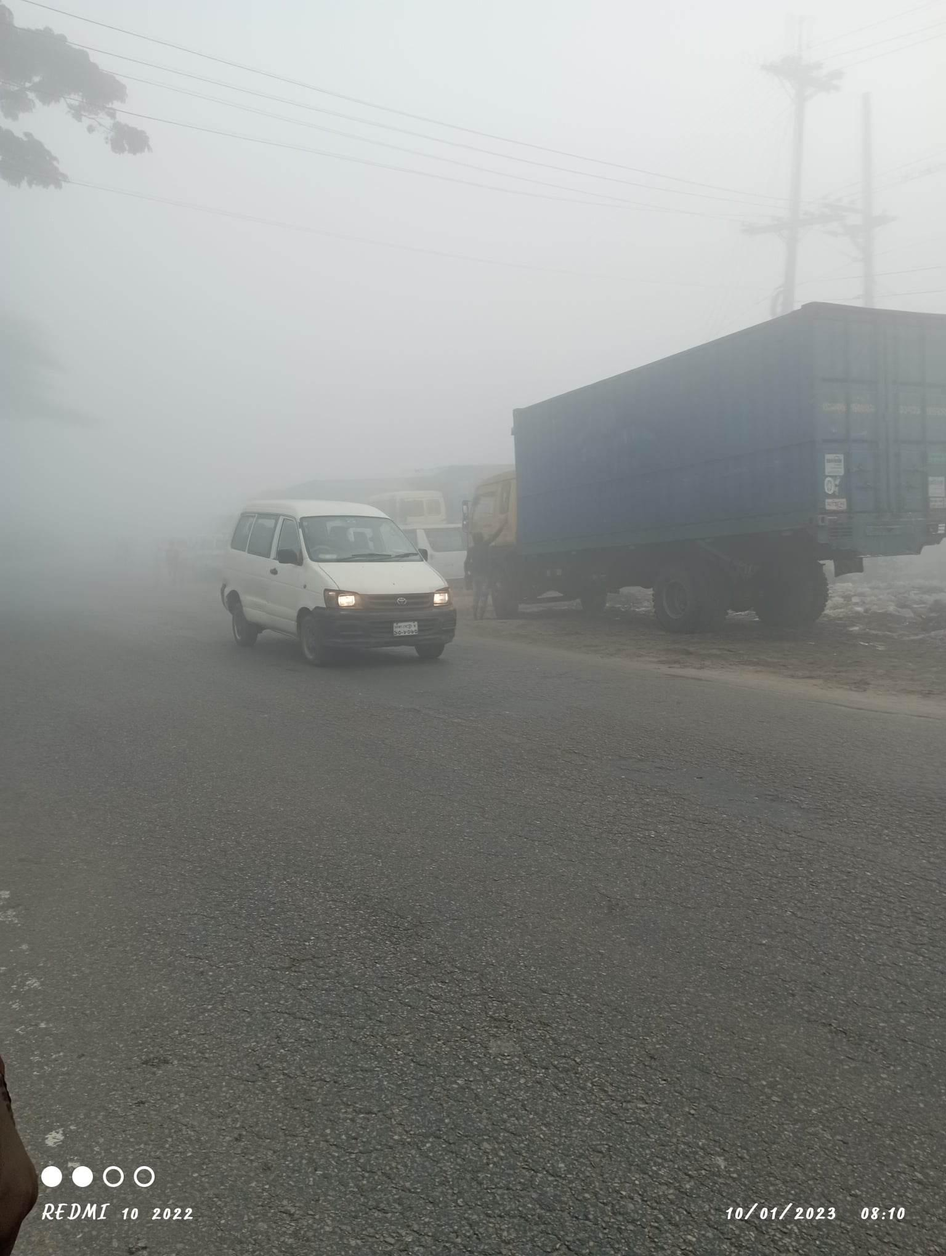Car: (203, 488, 479, 685)
Truck: (454, 292, 945, 693)
